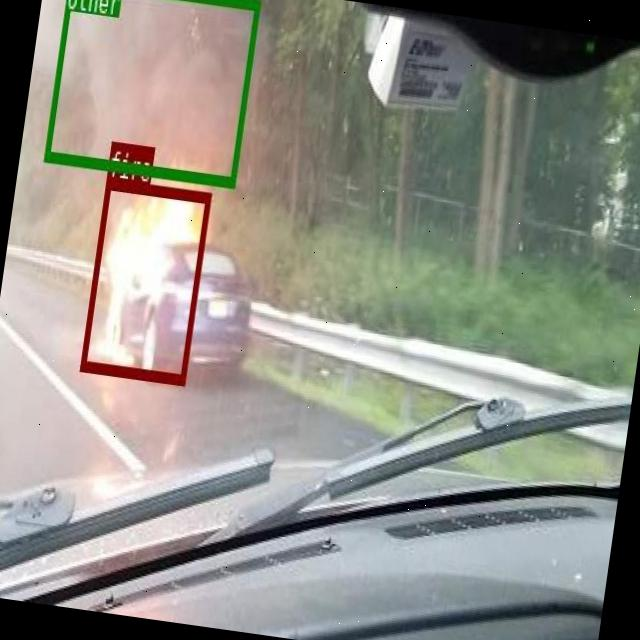fire: (80, 177, 211, 382)
